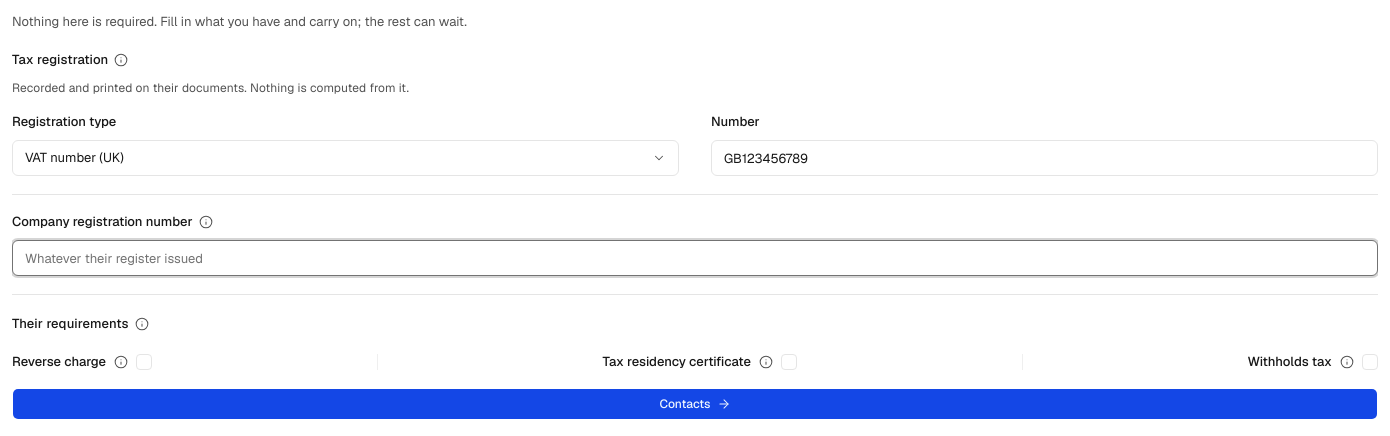
Test case: the foreign branch › keeps a saved type the country no longer offers
The width and height of the screenshot is (1390, 436).
Click the dropdown labelled "Registration type" at (332, 158), box [13,148,652,168]
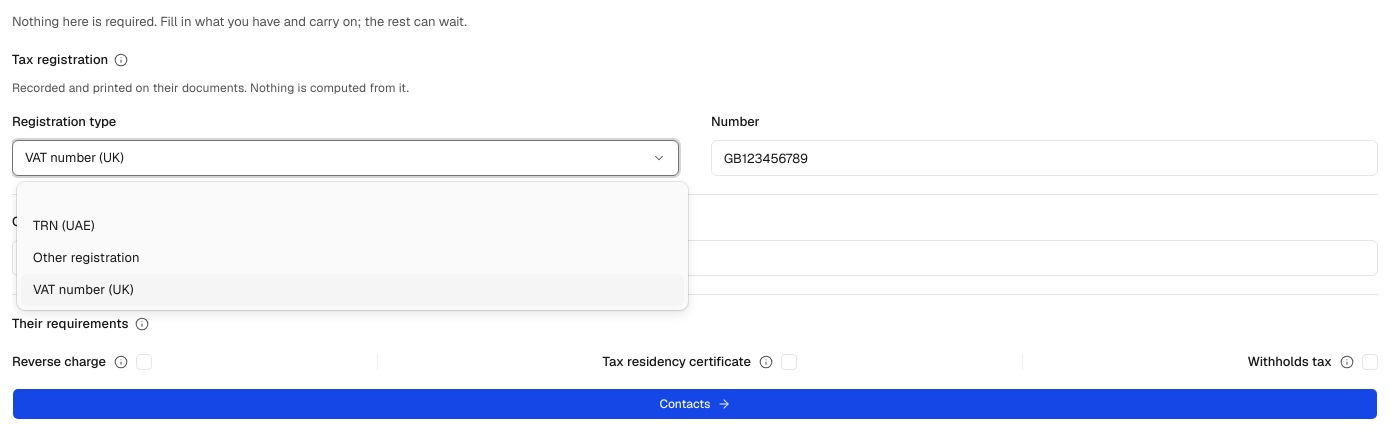
Result: the option "VAT number (UK)" is shown at [21,274,684,306]
